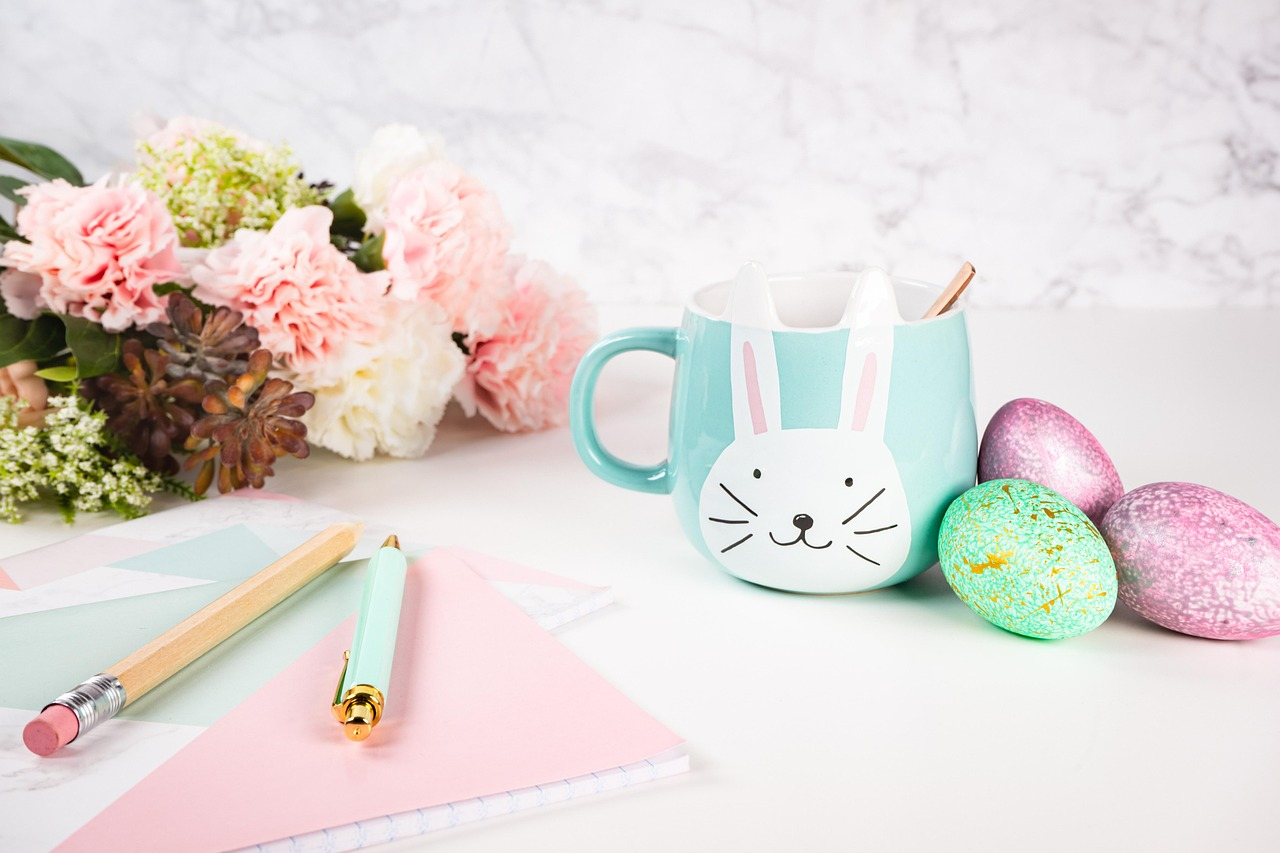mug: (563, 208, 1075, 648)
